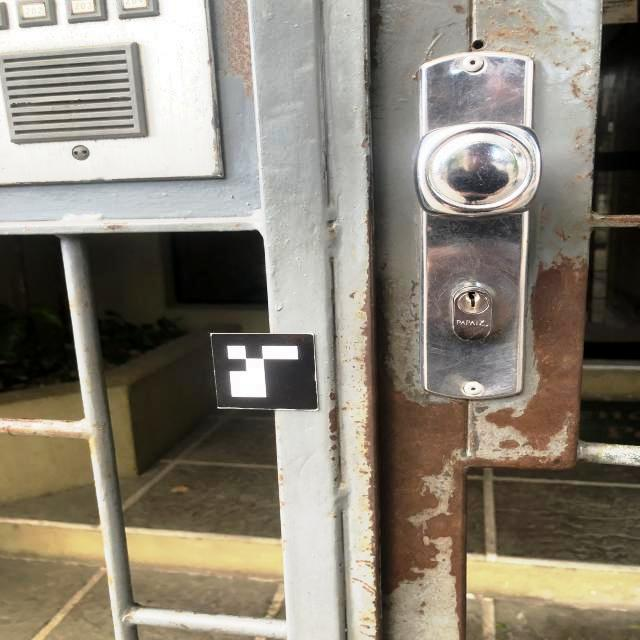Corrosion: (358, 206, 589, 640), (220, 0, 253, 98), (0, 418, 73, 436), (370, 12, 383, 70), (593, 215, 640, 224), (327, 407, 337, 435), (102, 222, 126, 229), (326, 391, 337, 403), (370, 0, 382, 10), (330, 435, 338, 444), (330, 444, 338, 452)
